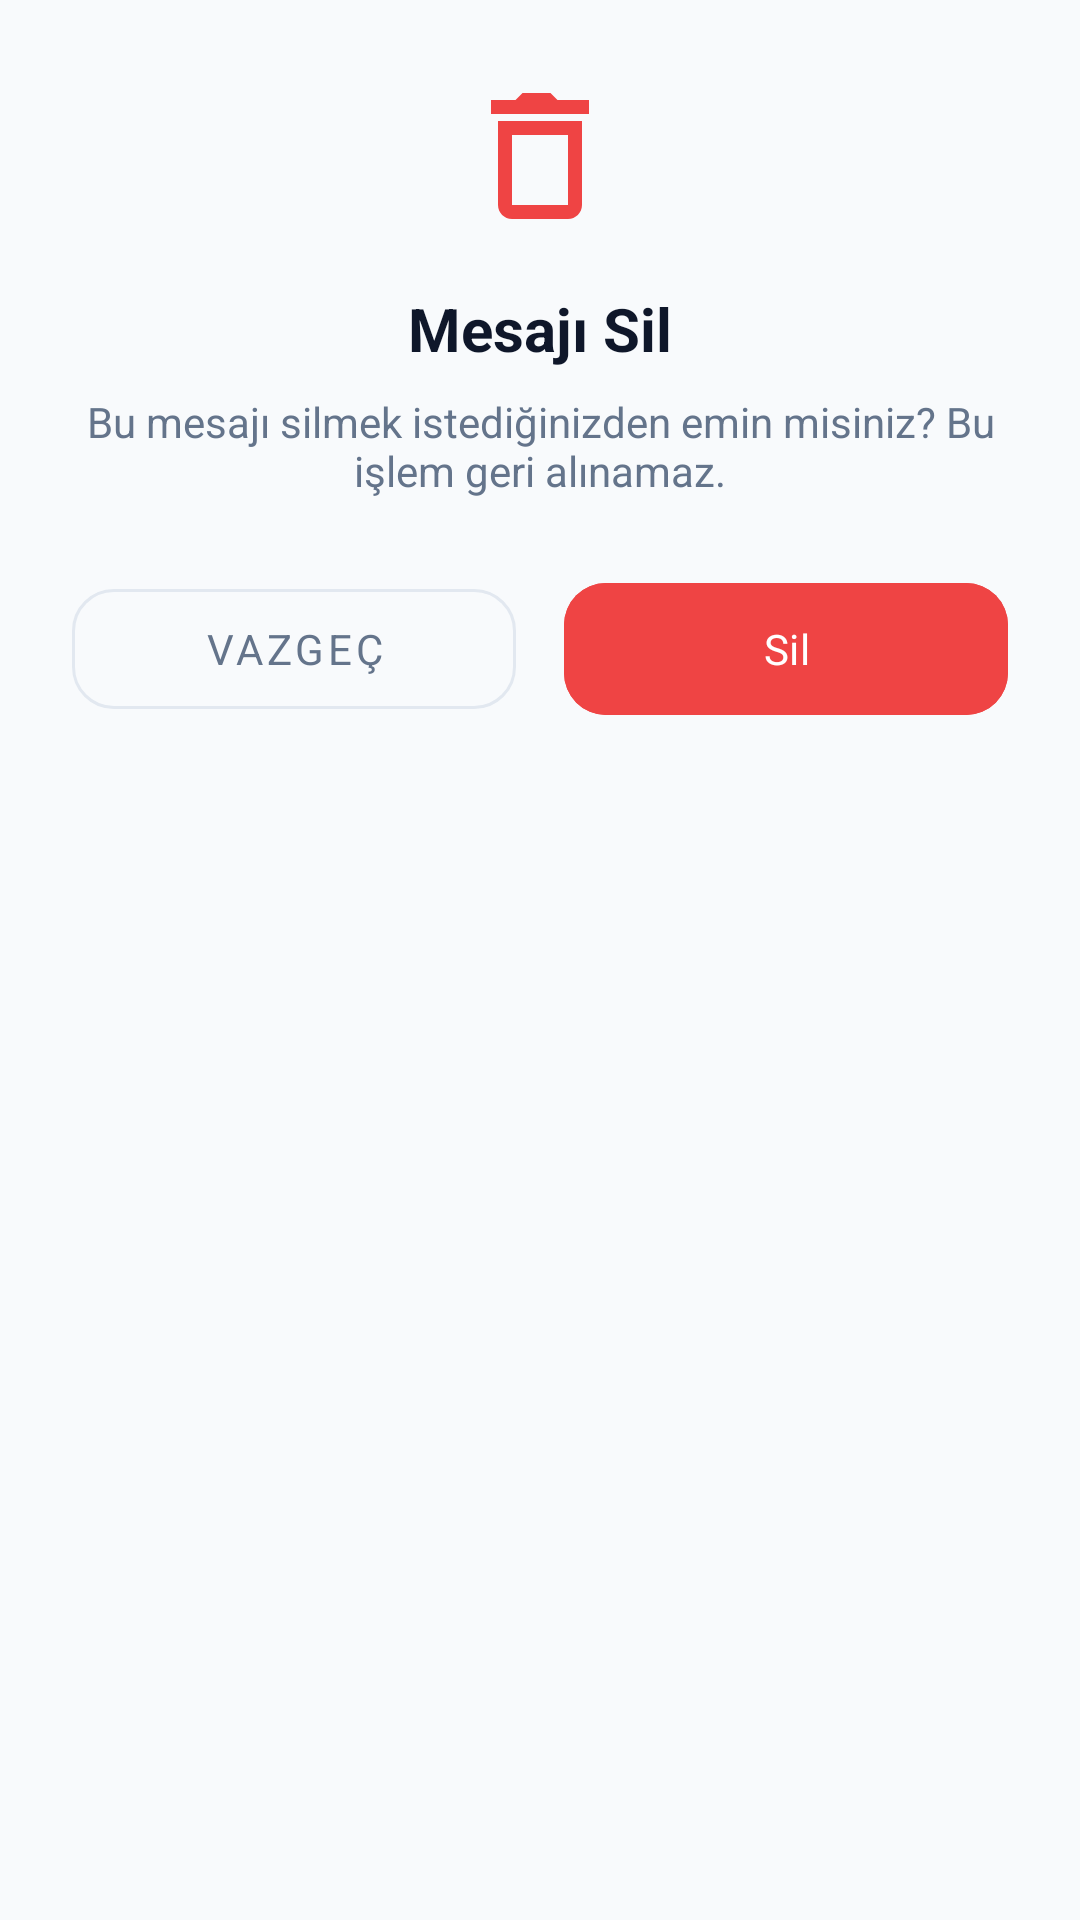

Named icons in this screenshot (1080w x 1920h) and their bounding boxes, (x1, y1, x2, y2):
delete: (491, 93, 589, 219)
